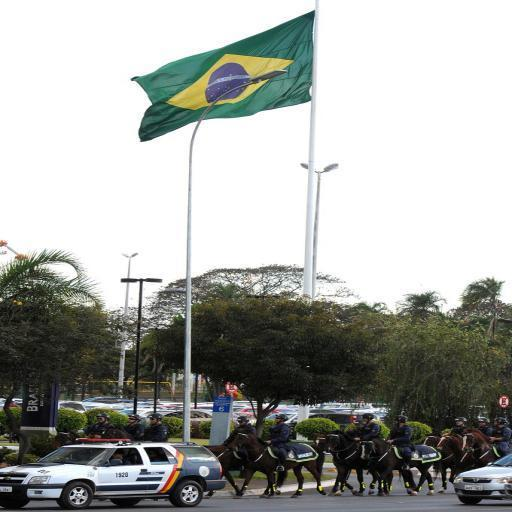horse: (188, 426, 508, 500), (53, 424, 85, 450), (99, 424, 139, 442)
